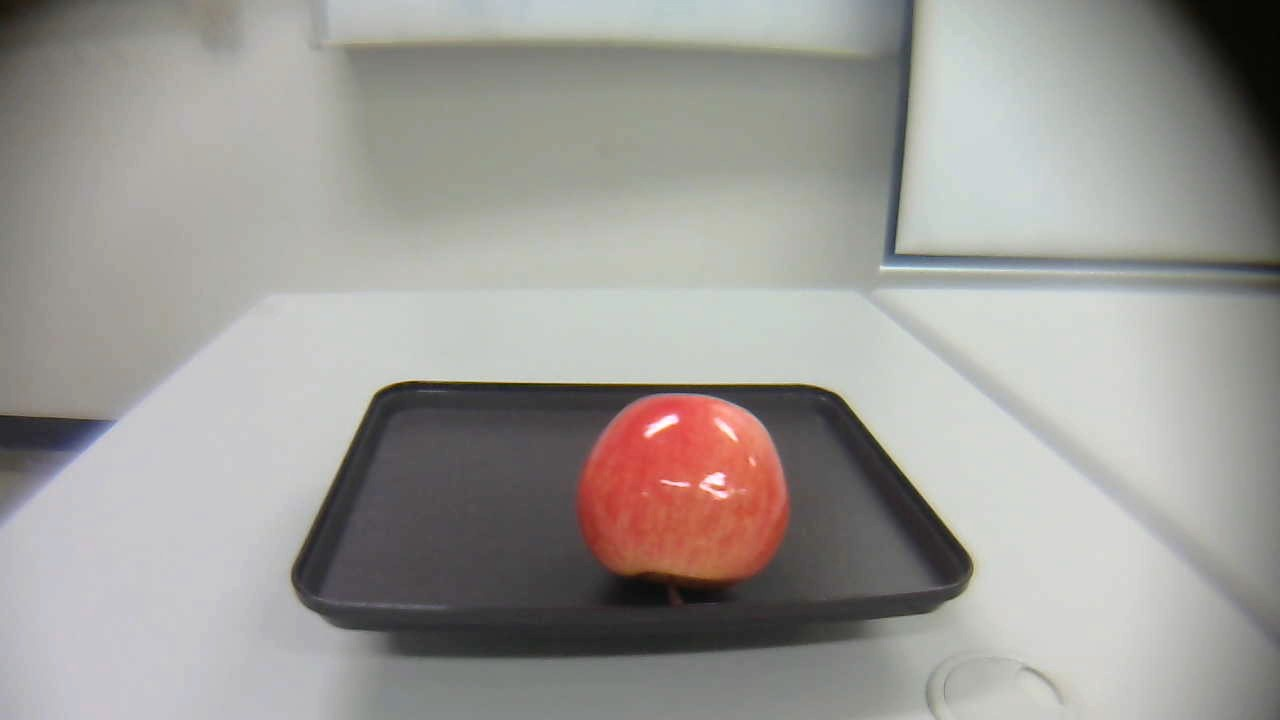red apple: (572, 385, 802, 611)
